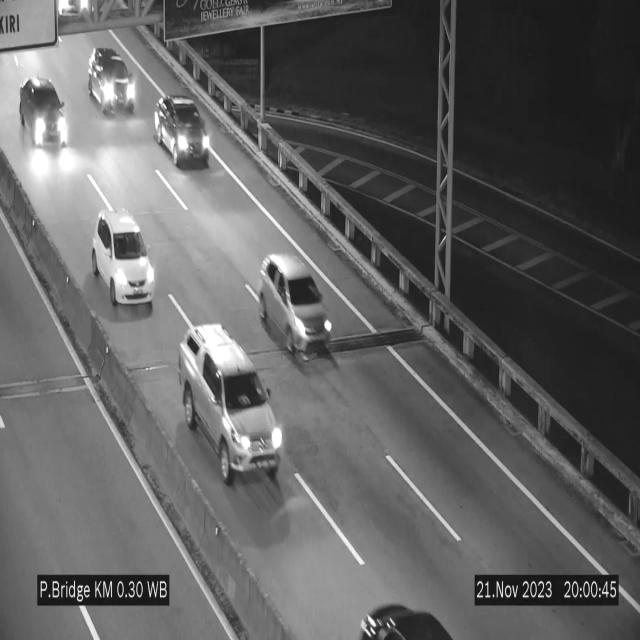Car: (178, 324, 283, 484), (259, 255, 332, 361), (92, 212, 156, 307), (356, 594, 454, 640), (18, 71, 70, 154), (154, 94, 210, 168), (88, 47, 137, 114)
